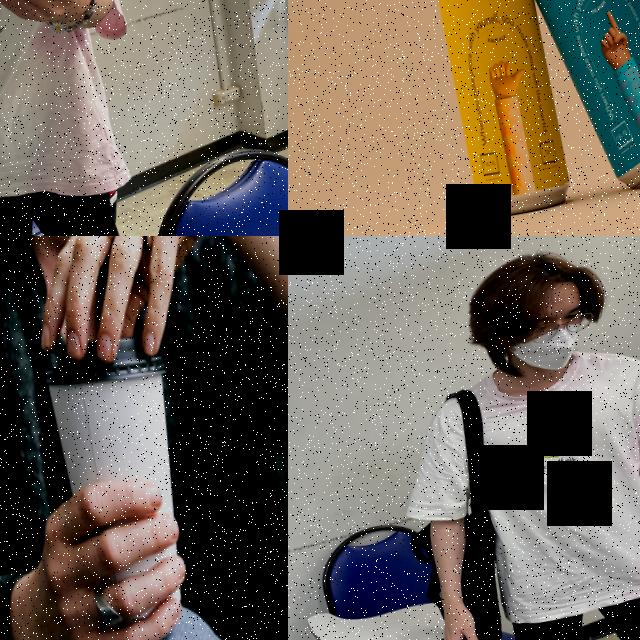can: (429, 0, 575, 221), (518, 0, 640, 201)
cup: (38, 324, 212, 632)
